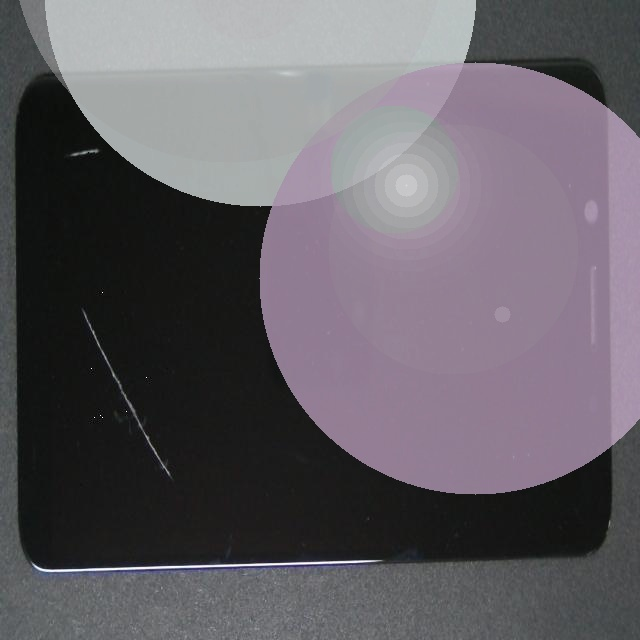scratch: (0, 115, 166, 601), (0, 77, 92, 243)
